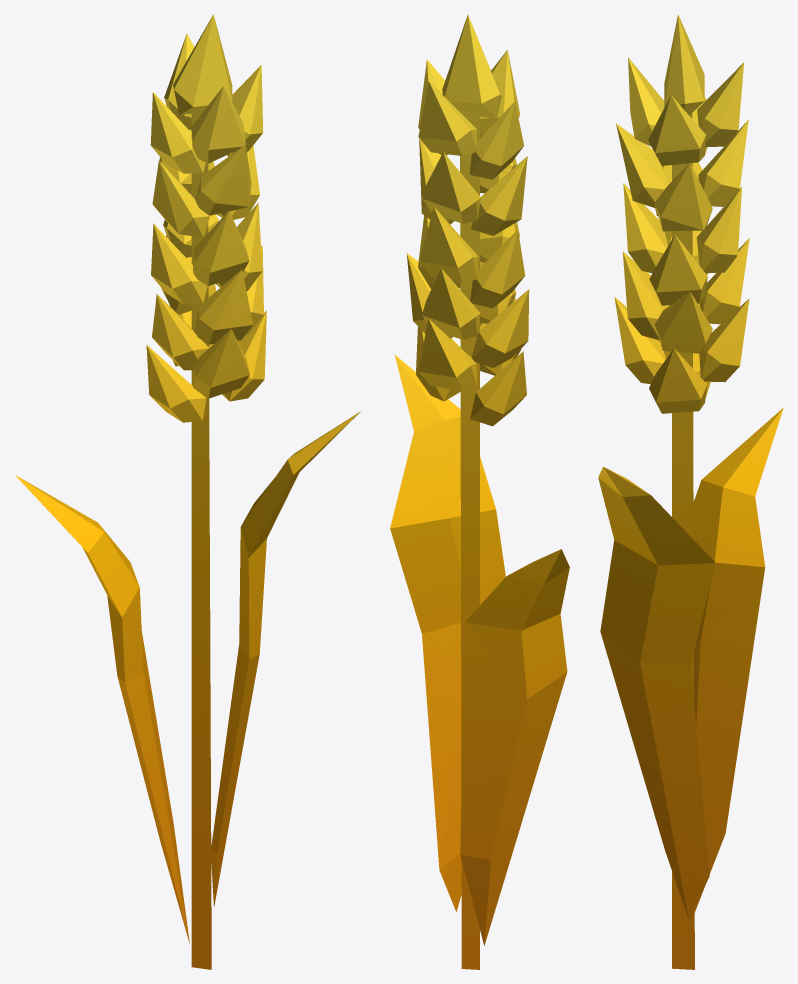
File: Flower_Wheat_03.fbx
3 renders of one model, left to right at view 1: azimuth 30°, elevation 25°; view 2: azimuth 150°, elevation 25°; view 3: azimuth 270°, elevation 25°, orthographic.
Visible parts, largest first — view 1: Flower_Wheat_03; view 2: Flower_Wheat_03; view 3: Flower_Wheat_03.
Part boxes in pixels (left/top/right/bottom): Flower_Wheat_03: left=15, top=14, right=360, bottom=969; Flower_Wheat_03: left=390, top=14, right=569, bottom=969; Flower_Wheat_03: left=598, top=14, right=783, bottom=969.
Size of the model in its own units: 21.65 by 76.48 by 13.44.
